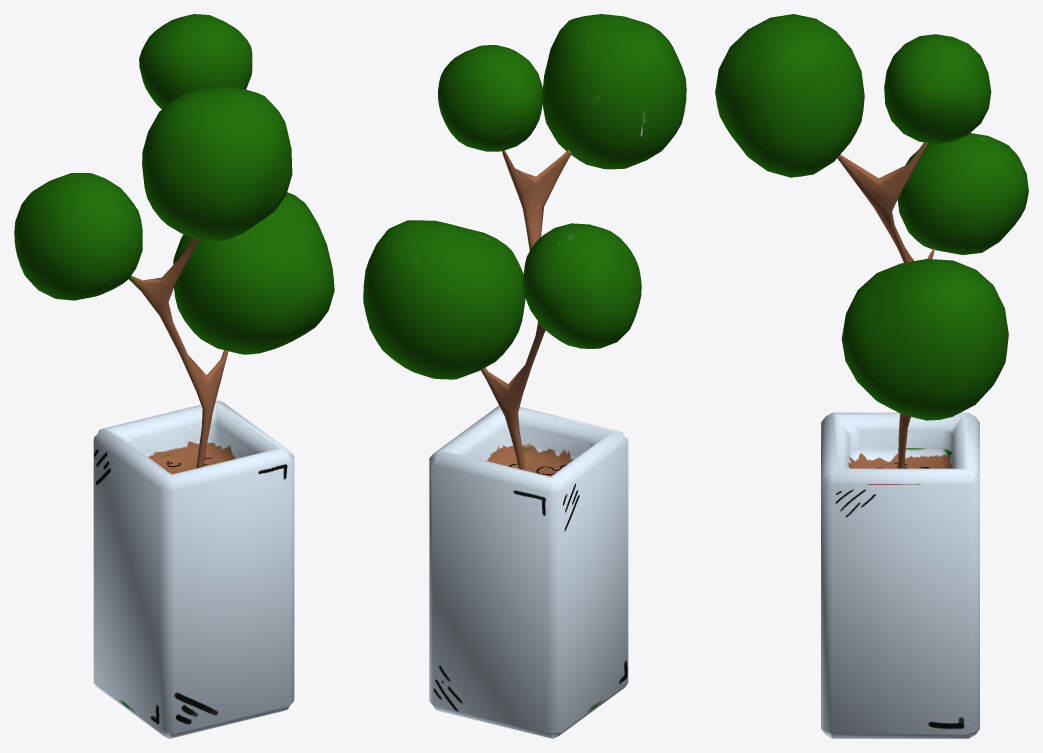
File: F_Saksi.fbx
3 views of the same model, side by side, from view 1: azimuth 30°, elevation 25°; view 2: azimuth 150°, elevation 25°; view 3: azimuth 270°, elevation 25° (orthographic). The views are drawn at different scales.
Parts seen in each view (by area): view 1: BuyukVazo.001; view 2: BuyukVazo.001; view 3: BuyukVazo.001.
Boxes of the visible parts, box(x1,y1,x2,y2) form: BuyukVazo.001: box(14, 14, 334, 738); BuyukVazo.001: box(363, 14, 686, 738); BuyukVazo.001: box(715, 14, 1028, 738).
Bounding box in the file's own units: 103 × 236 × 98.66.
